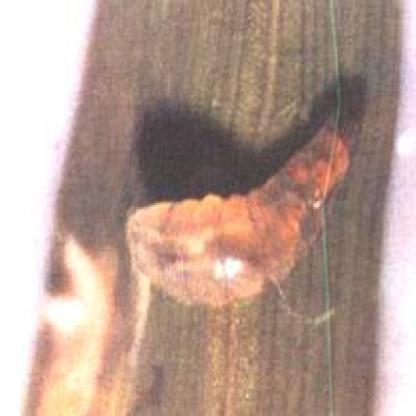whorl-maggot: (127, 121, 350, 306)
